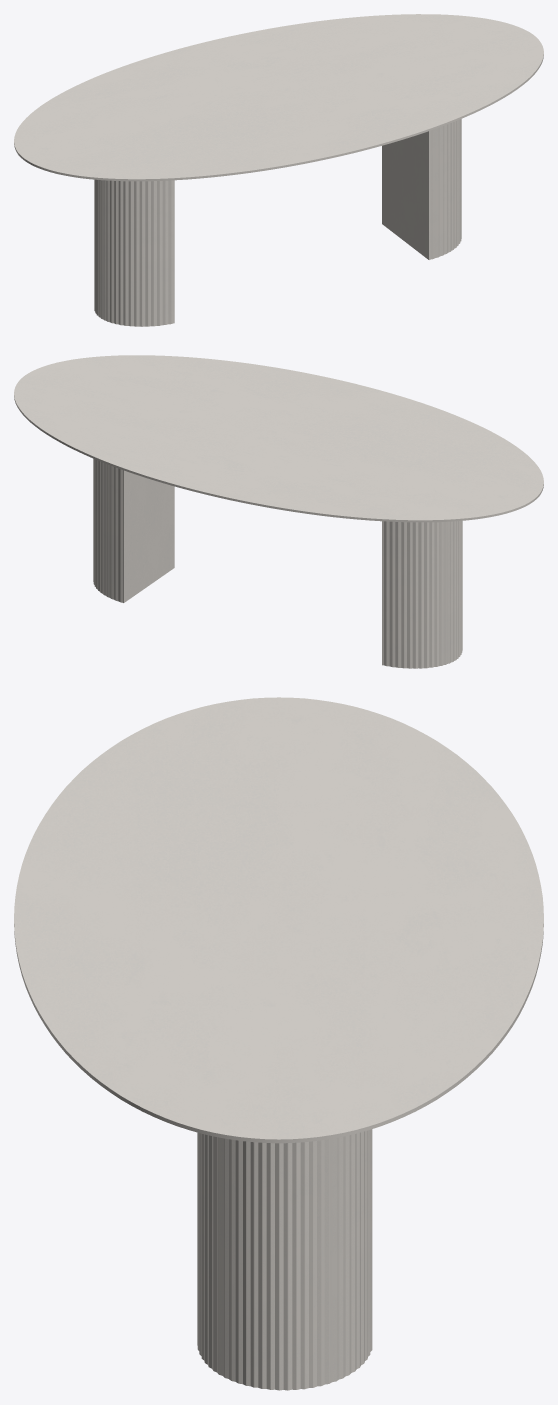
The model's file is purewhite_ellips_facet_flute.glb.
3 views of the same model, one above another, from view 1: azimuth 30°, elevation 25°; view 2: azimuth 150°, elevation 25°; view 3: azimuth 270°, elevation 25° (orthographic). The views are drawn at different scales.
Visible parts, largest first — view 1: facet_ellips, flute; view 2: facet_ellips, flute; view 3: facet_ellips, flute.
Boxes of the visible parts, left/top/right/bottom form: facet_ellips: left=14, top=14, right=543, bottom=181; flute: left=94, top=119, right=461, bottom=326; facet_ellips: left=14, top=355, right=543, bottom=522; flute: left=93, top=458, right=462, bottom=668; facet_ellips: left=14, top=697, right=543, bottom=1143; flute: left=197, top=1129, right=372, bottom=1390.
Size of the model in its own units: 7.5 by 2.51 by 3.8.
1 material, 1 textured.
